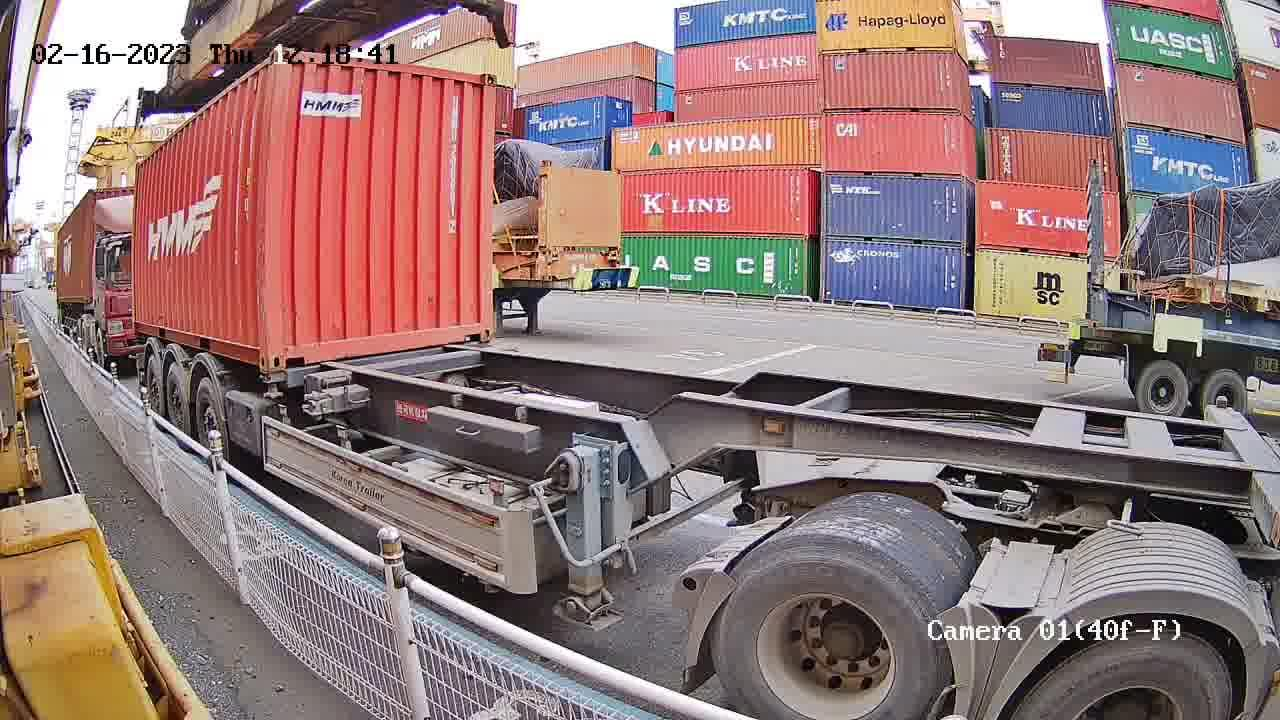Chassis: (284, 342, 493, 383)
Cone: (260, 371, 284, 401)
Hole_L: (270, 328, 310, 371)
Hole_R: (462, 303, 496, 343), (239, 328, 268, 373)
Tire: (712, 535, 949, 715), (1018, 632, 1234, 717), (196, 380, 221, 434), (168, 366, 186, 425), (147, 356, 160, 408)
